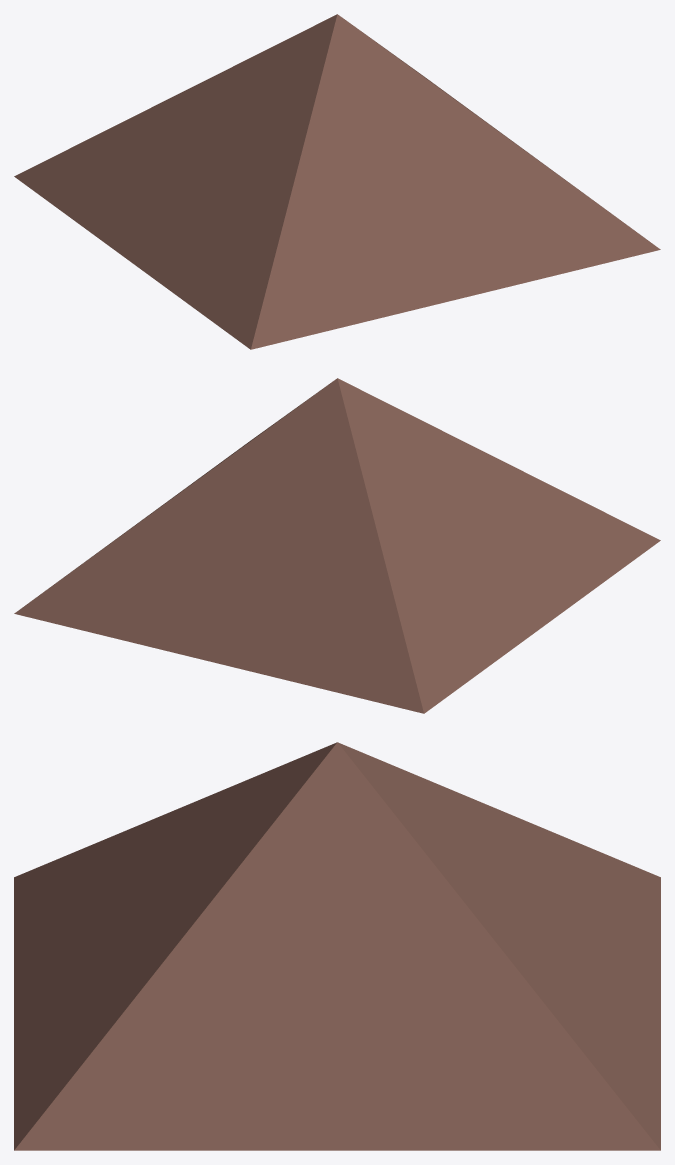
The model's file is cati 1.1.fbx.
3 views of the same model, one above another, from view 1: azimuth 30°, elevation 25°; view 2: azimuth 150°, elevation 25°; view 3: azimuth 270°, elevation 25° (orthographic). The views are drawn at different scales.
Visible parts, largest first — view 1: pPyramid1; view 2: pPyramid1; view 3: pPyramid1.
Part boxes in pixels (x1,y1,x2,y2): pPyramid1: (14,14,660,349); pPyramid1: (14,378,660,713); pPyramid1: (14,742,660,1150).
Size of the model in its own units: 1501 by 696 by 1501.
